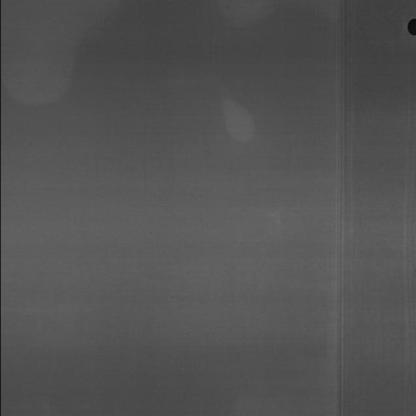punching_hole: (404, 14, 414, 38)
welding_line: (323, 2, 358, 413)
